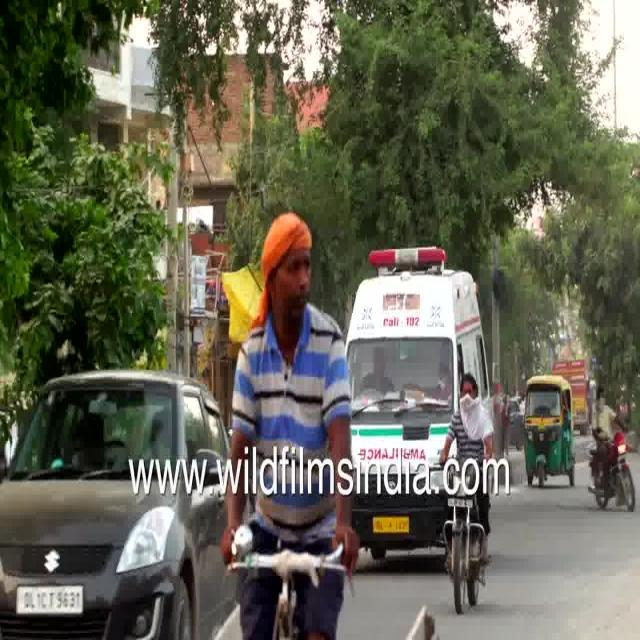ambulance: (341, 232, 503, 538)
